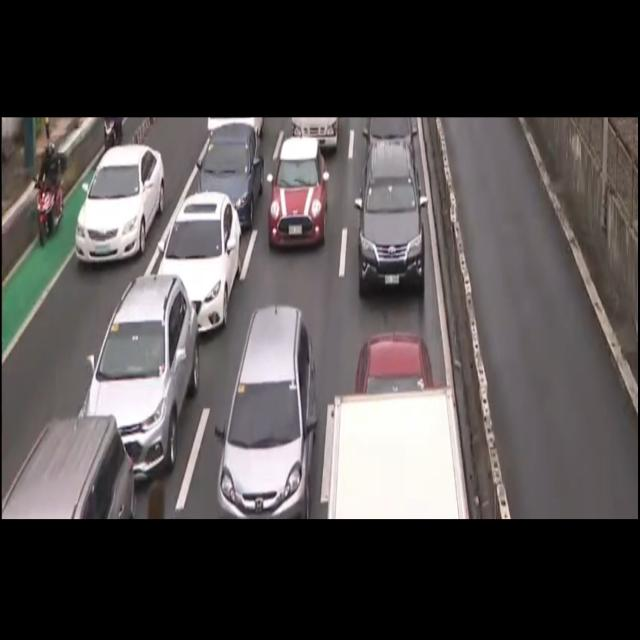Motorcycle: (30, 133, 66, 249)
SUV: (80, 274, 198, 470), (215, 306, 313, 516), (0, 419, 148, 517), (350, 142, 433, 301), (285, 412, 297, 415)
Sedan: (73, 148, 165, 262), (162, 190, 238, 320), (276, 138, 330, 249), (198, 127, 258, 224), (352, 326, 440, 391)
Truck: (320, 394, 466, 520)
